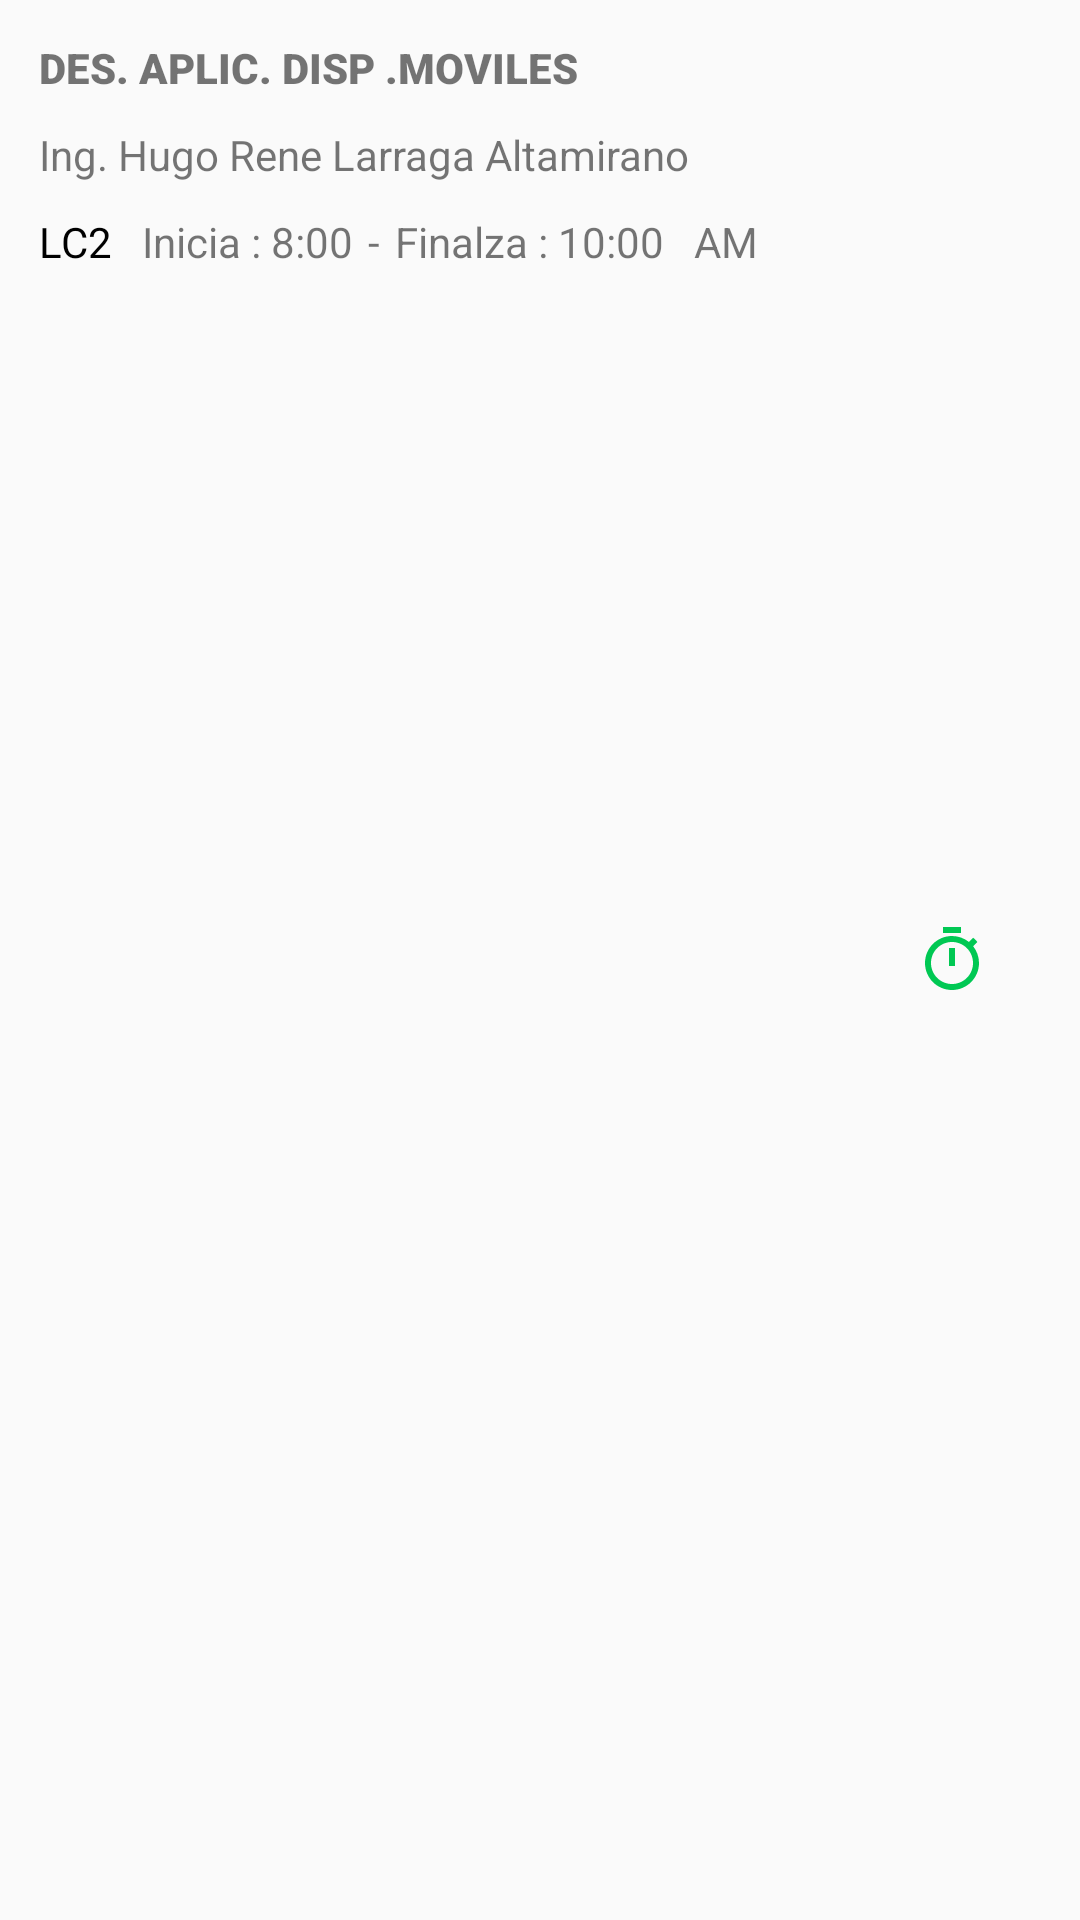

Named icons in this screenshot (1080w x 1920h) and their centers, [x,y]:
timer: [952,958]
